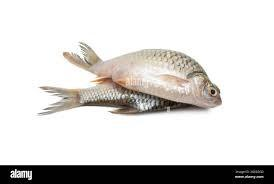Silver Barb: (65, 40, 224, 108)
